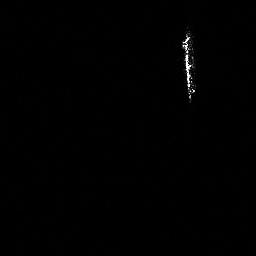ship: (180, 30, 198, 104)
